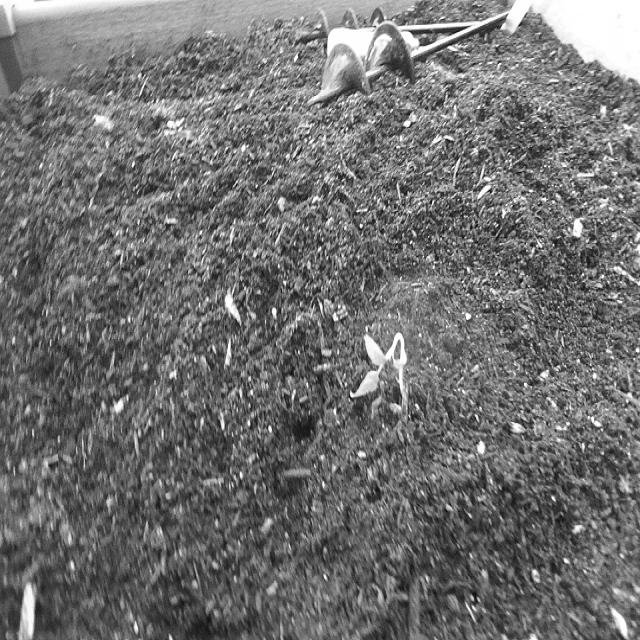Unhealthy: (348, 322, 414, 412)
